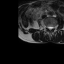CCS_normal: (49, 25, 51, 32)
LFS_normal: (53, 24, 55, 30)
LLS_normal: (51, 25, 53, 31)
RFS_normal: (45, 24, 47, 29)
RLS_normal: (47, 25, 49, 30)
